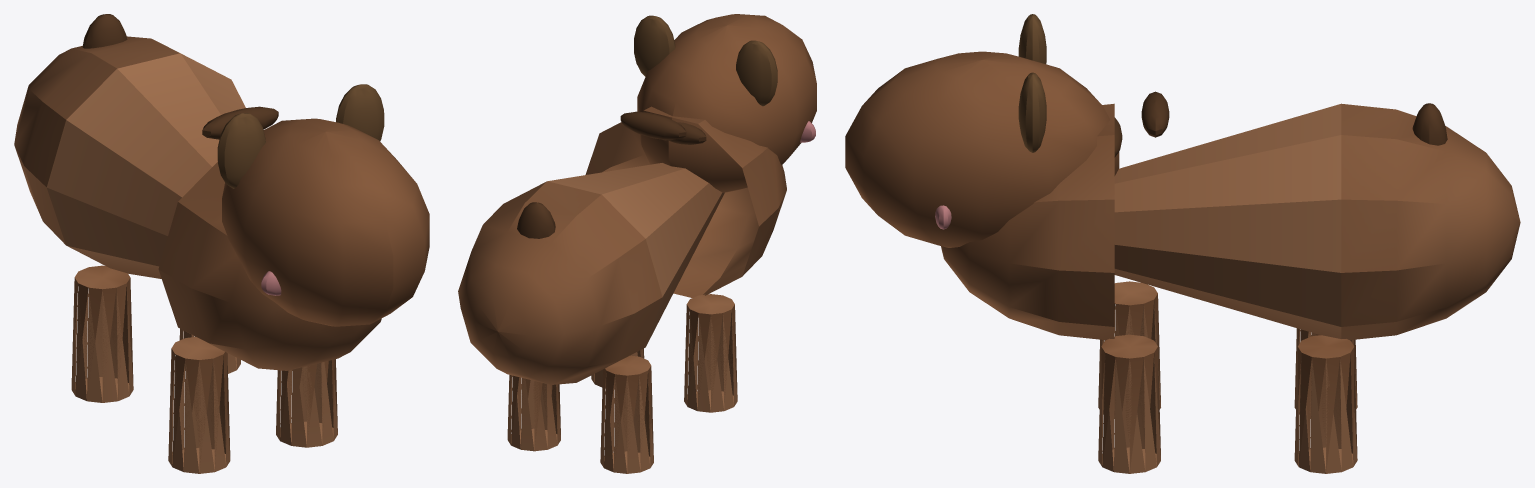
Rendered from p7acad96a.glb.
3 renders of one model, left to right at view 1: azimuth 30°, elevation 25°; view 2: azimuth 150°, elevation 25°; view 3: azimuth 270°, elevation 25°, orthographic. The views are drawn at different scales.
Parts seen in each view (by area): view 1: pet_p7acad96a; view 2: pet_p7acad96a; view 3: pet_p7acad96a.
Boxes of the visible parts, left/top/right/bottom form: pet_p7acad96a: left=14, top=14, right=429, bottom=473; pet_p7acad96a: left=458, top=14, right=816, bottom=473; pet_p7acad96a: left=845, top=14, right=1520, bottom=473.
Bounding box in the file's own units: 0.38 × 0.682 × 1.07.
